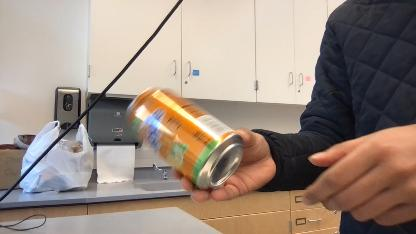Can: (126, 80, 250, 194)
